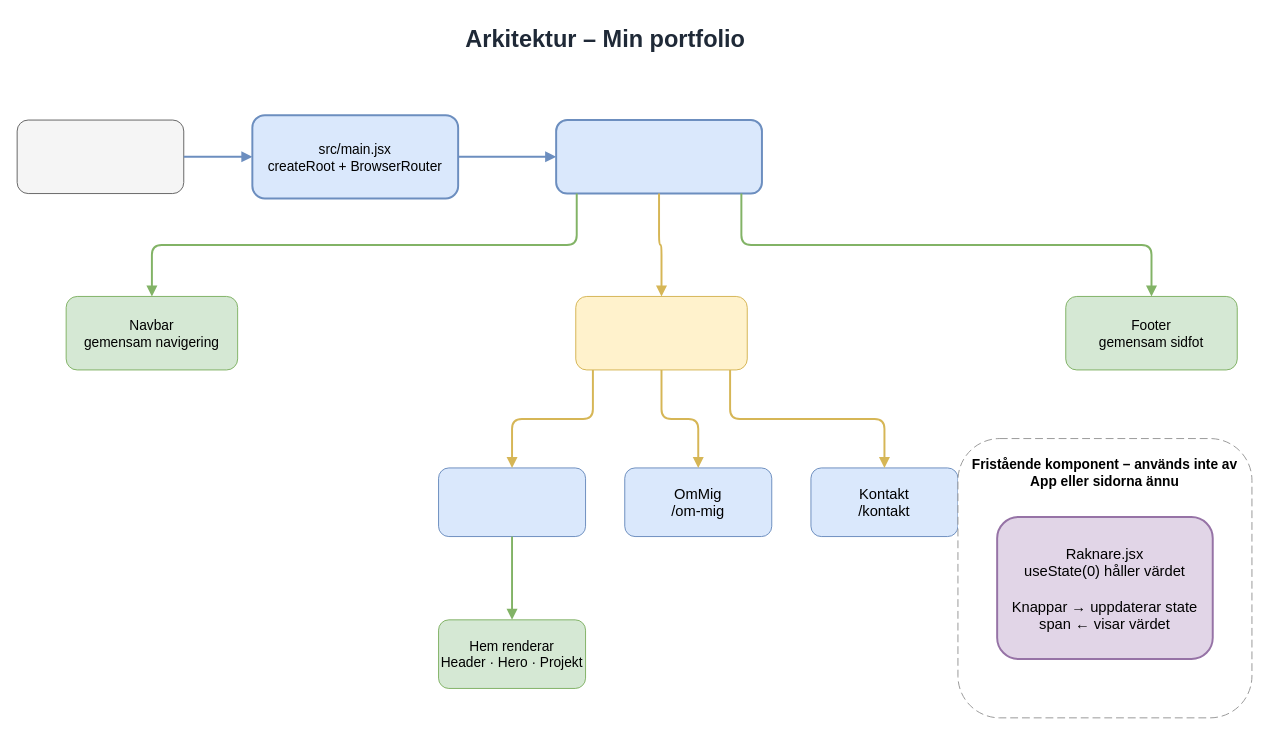
The diagram is 1269 pixels wide and 735 high, and some of its shapes have lost their labels. The centre of each missing label's shape, as x and y in pixels:
"Hem /" goes at pixel 512 502.
"index.html #root" goes at pixel 100 156.
"React Router Routes" goes at pixel 661 332.
"src/App.jsx App (layout + routes)" goes at pixel 658 156.
